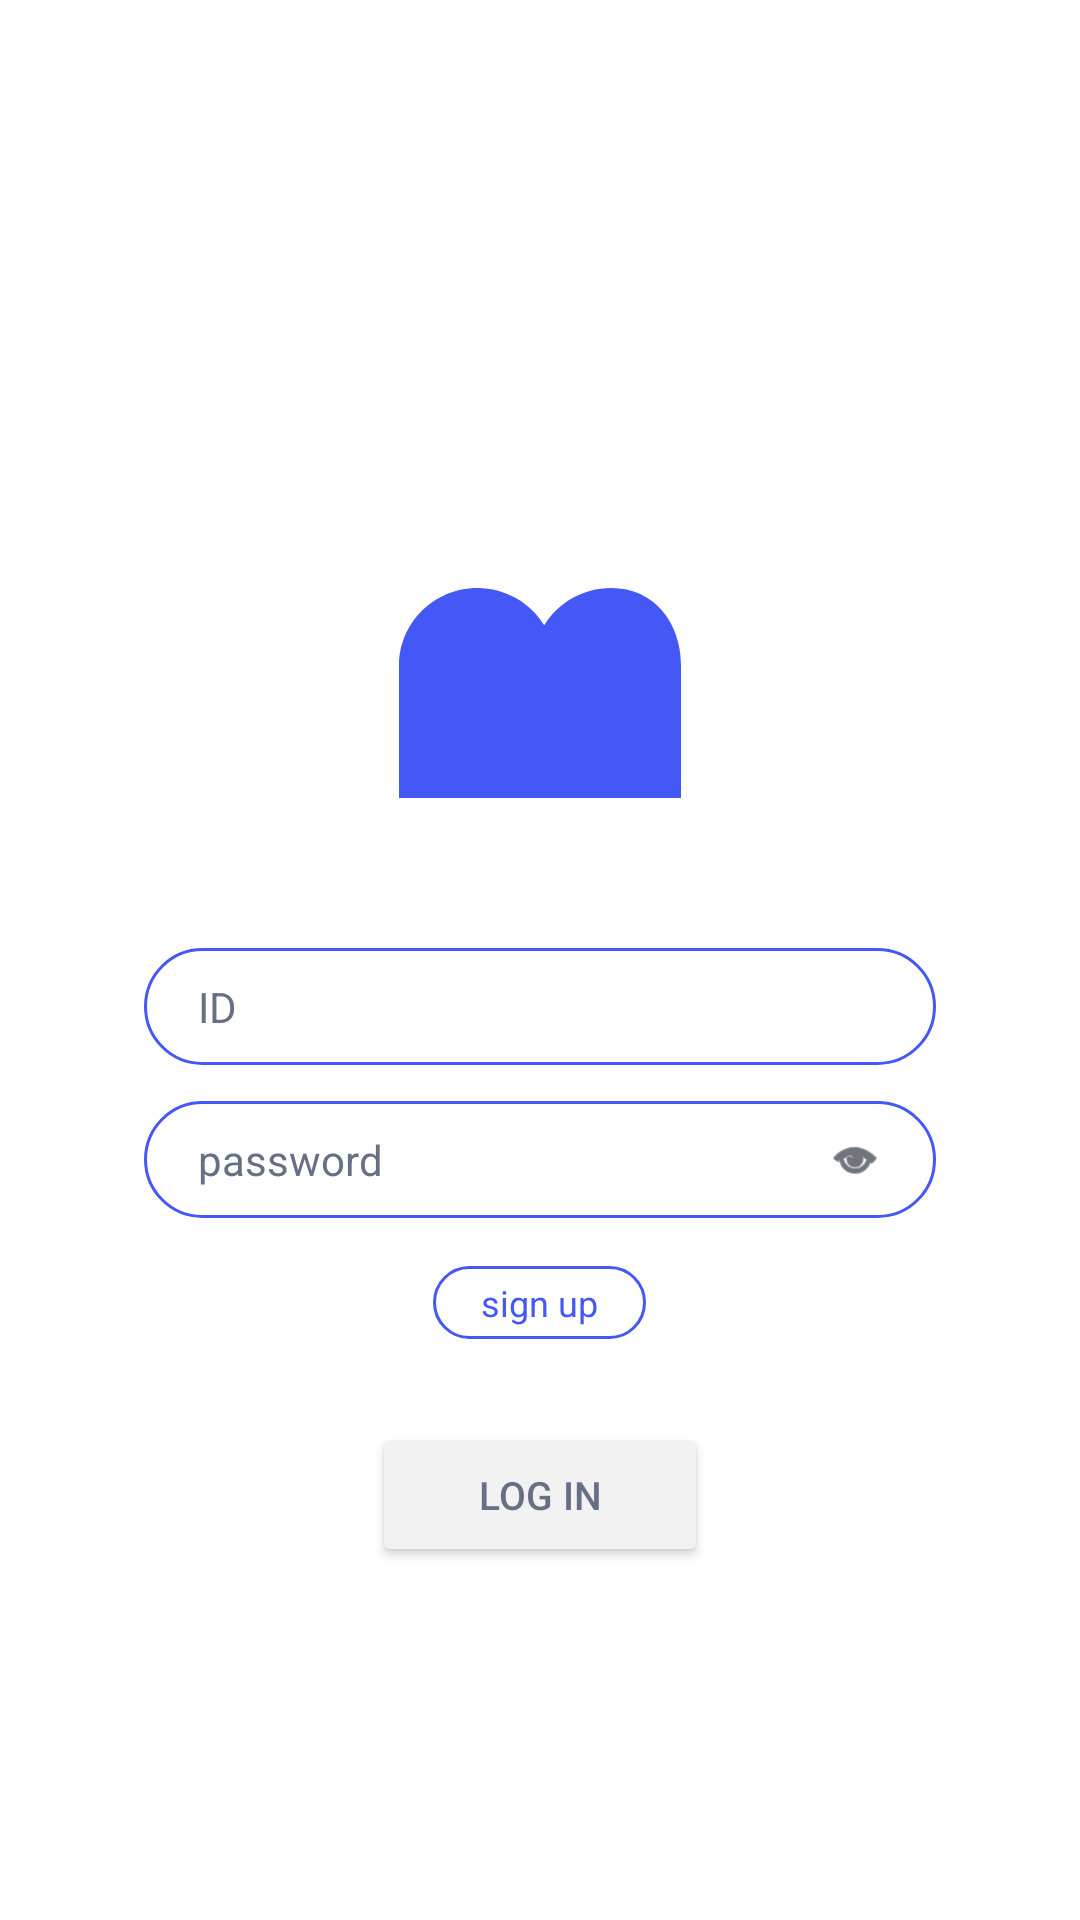

Icon bounding boxes for this 1080px×1920px phone screenshot, format (x1, y1, x2, y2):
view: (833, 1147, 877, 1174)
